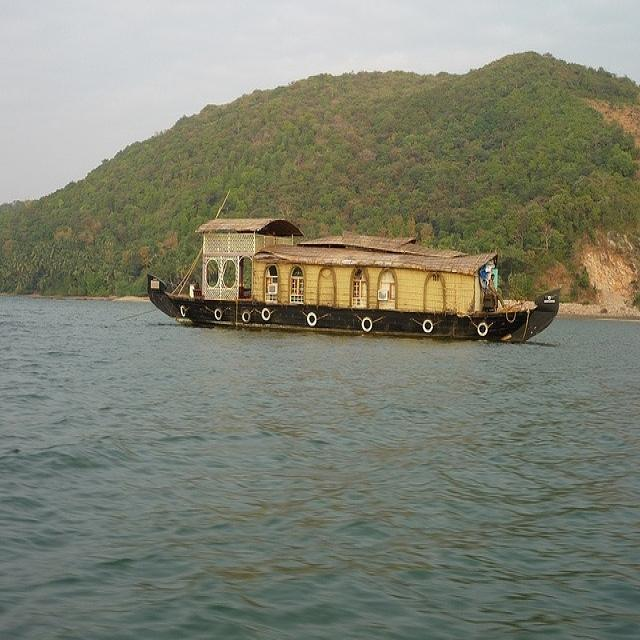boat: (138, 214, 572, 338)
